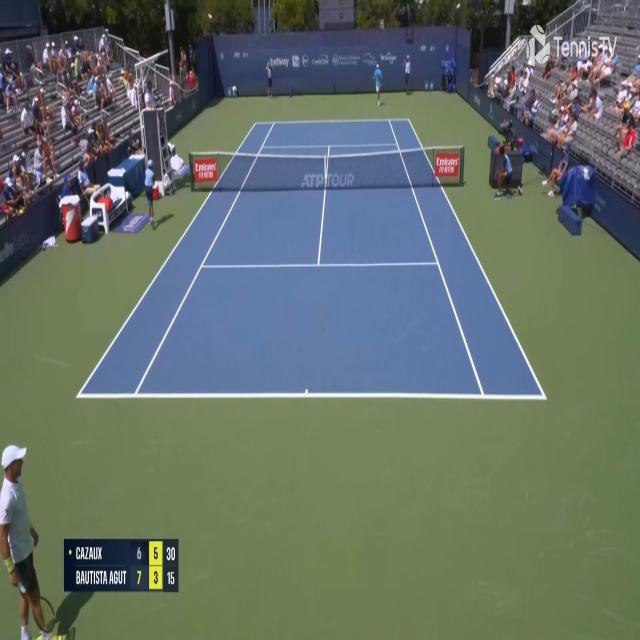tennis-player: (0, 437, 55, 639), (372, 61, 383, 108)
